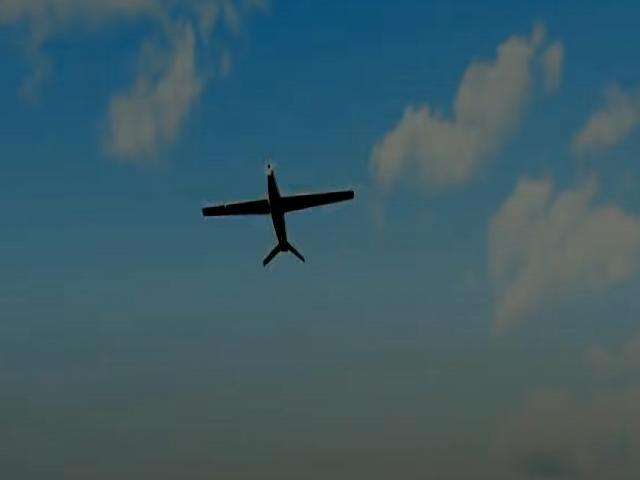iha: (202, 153, 354, 268)
